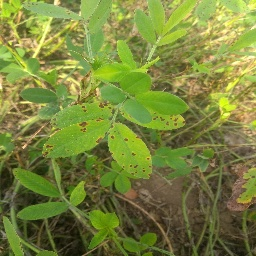GroundNut_Leaf: (110, 121, 153, 178), (43, 122, 109, 155), (156, 1, 195, 44), (12, 166, 61, 198), (87, 1, 112, 58), (134, 90, 190, 115), (20, 1, 86, 22), (47, 103, 113, 121), (17, 202, 70, 221), (155, 149, 193, 170), (121, 71, 152, 90), (116, 39, 135, 70), (89, 211, 118, 231), (134, 8, 154, 35), (21, 87, 58, 101), (97, 86, 119, 99)
